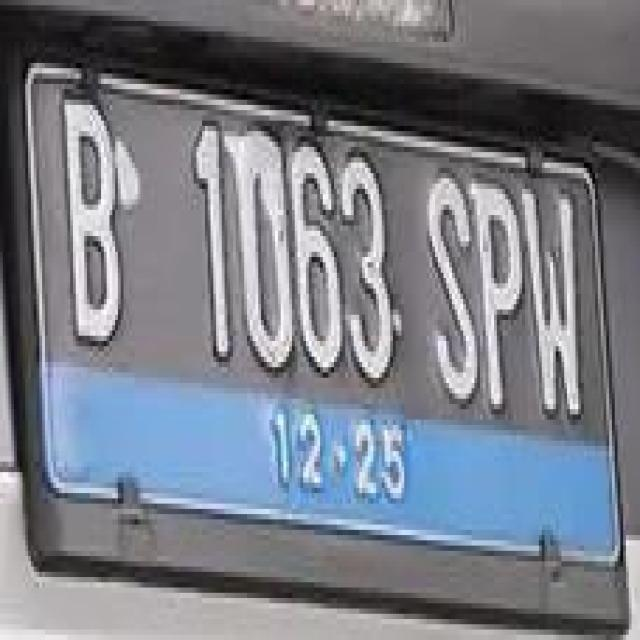0: (228, 112, 304, 400)
1: (179, 114, 240, 378)
3: (336, 131, 404, 406)
6: (284, 122, 351, 401)
B: (50, 86, 132, 363)
P: (472, 160, 538, 419)
S: (419, 156, 486, 422)
W: (520, 165, 594, 443)
